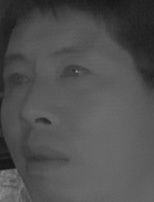eye: (55, 61, 90, 87), (3, 69, 30, 89)
mouth: (20, 139, 71, 177)
